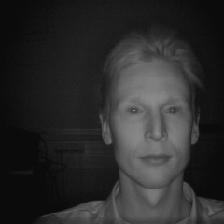normal: (102, 48, 204, 184)
